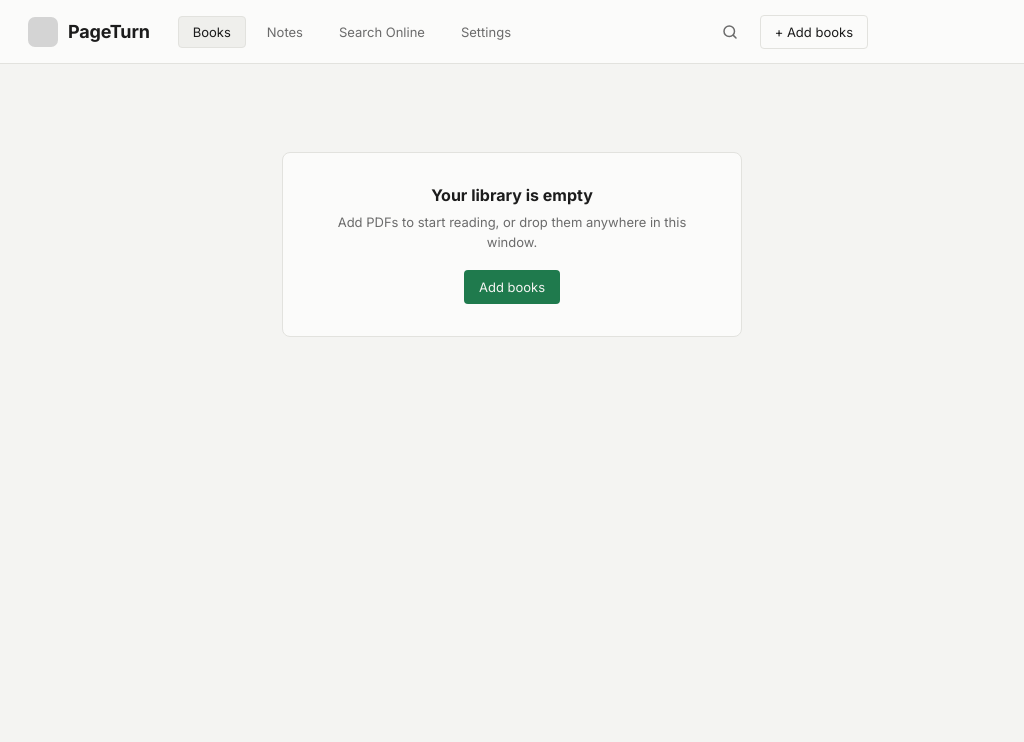
Test: HomeView › Settings opens inside the page
The width and height of the screenshot is (1024, 742).
Click the tab "Settings". click: (486, 32)
box: [446,16,526,48]
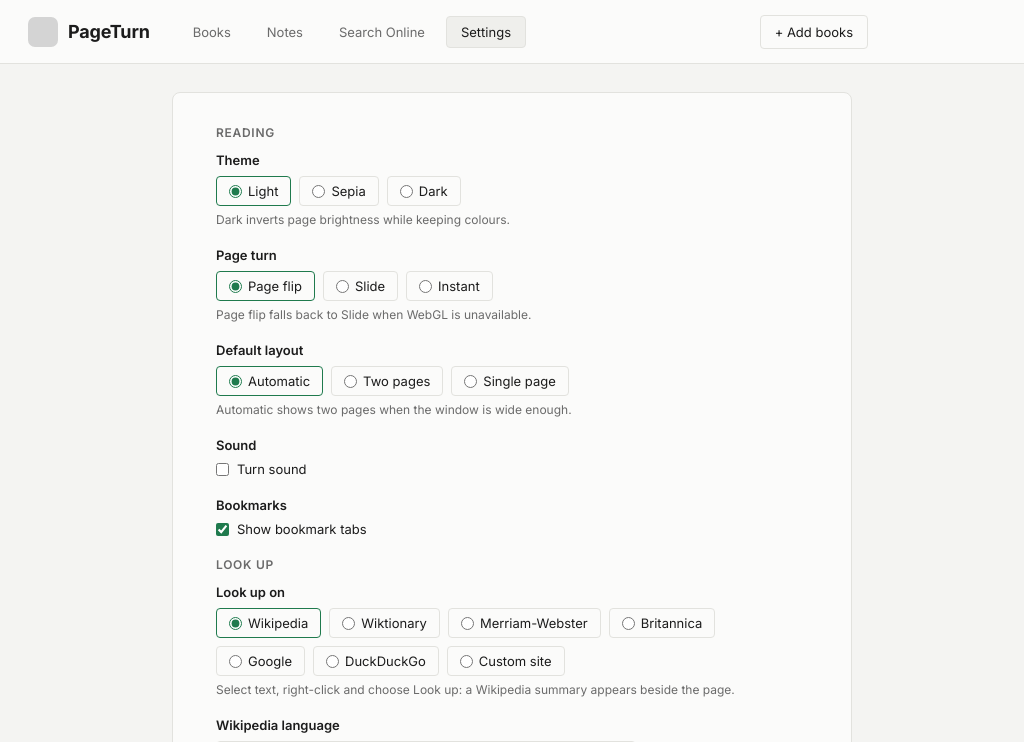
Expected: the radio button labelled "Dark" is shown, [400,184,413,198]
